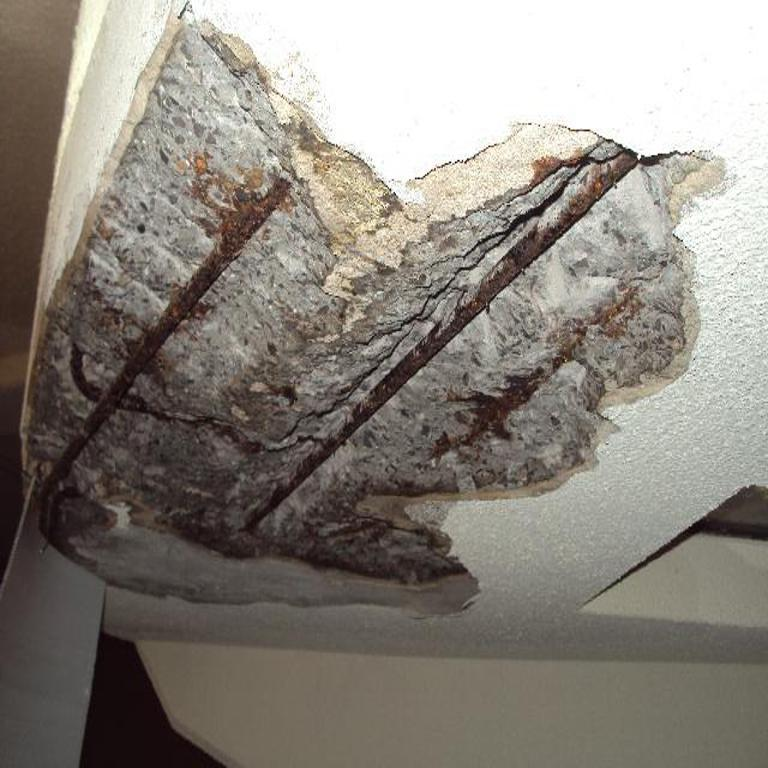exposed_rebar: (246, 150, 636, 527), (38, 178, 290, 529), (434, 384, 538, 457)
spalling: (27, 24, 720, 610)
